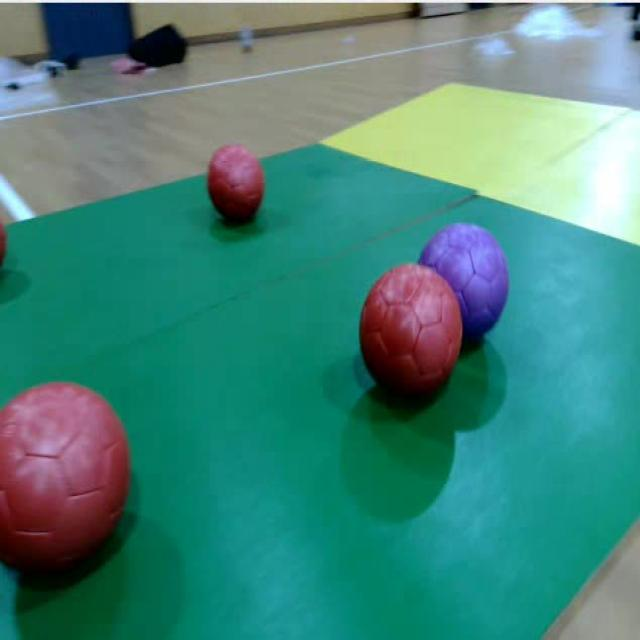purple_ball: (453, 228, 515, 334)
red_ball: (0, 380, 133, 582), (358, 274, 455, 407), (208, 142, 264, 228)
